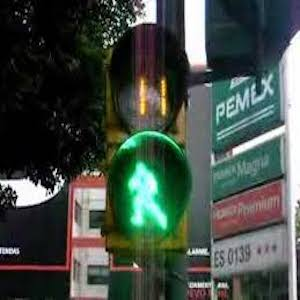green: (125, 157, 176, 230)
